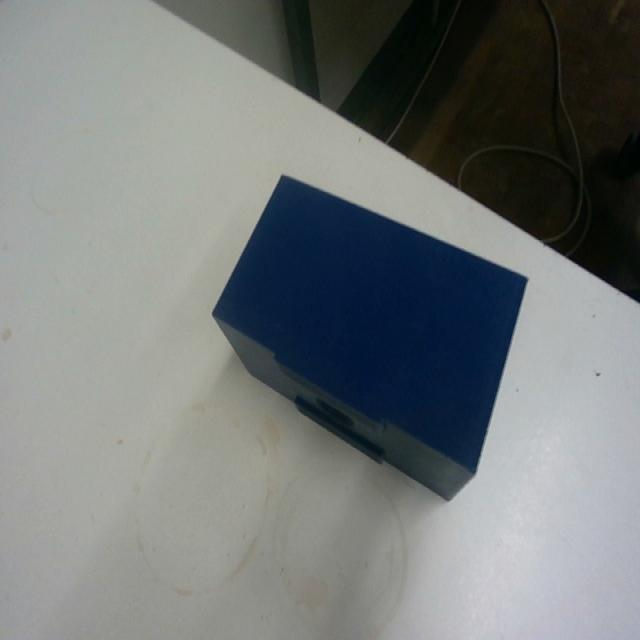Blue Cuboid: (210, 169, 530, 504)
